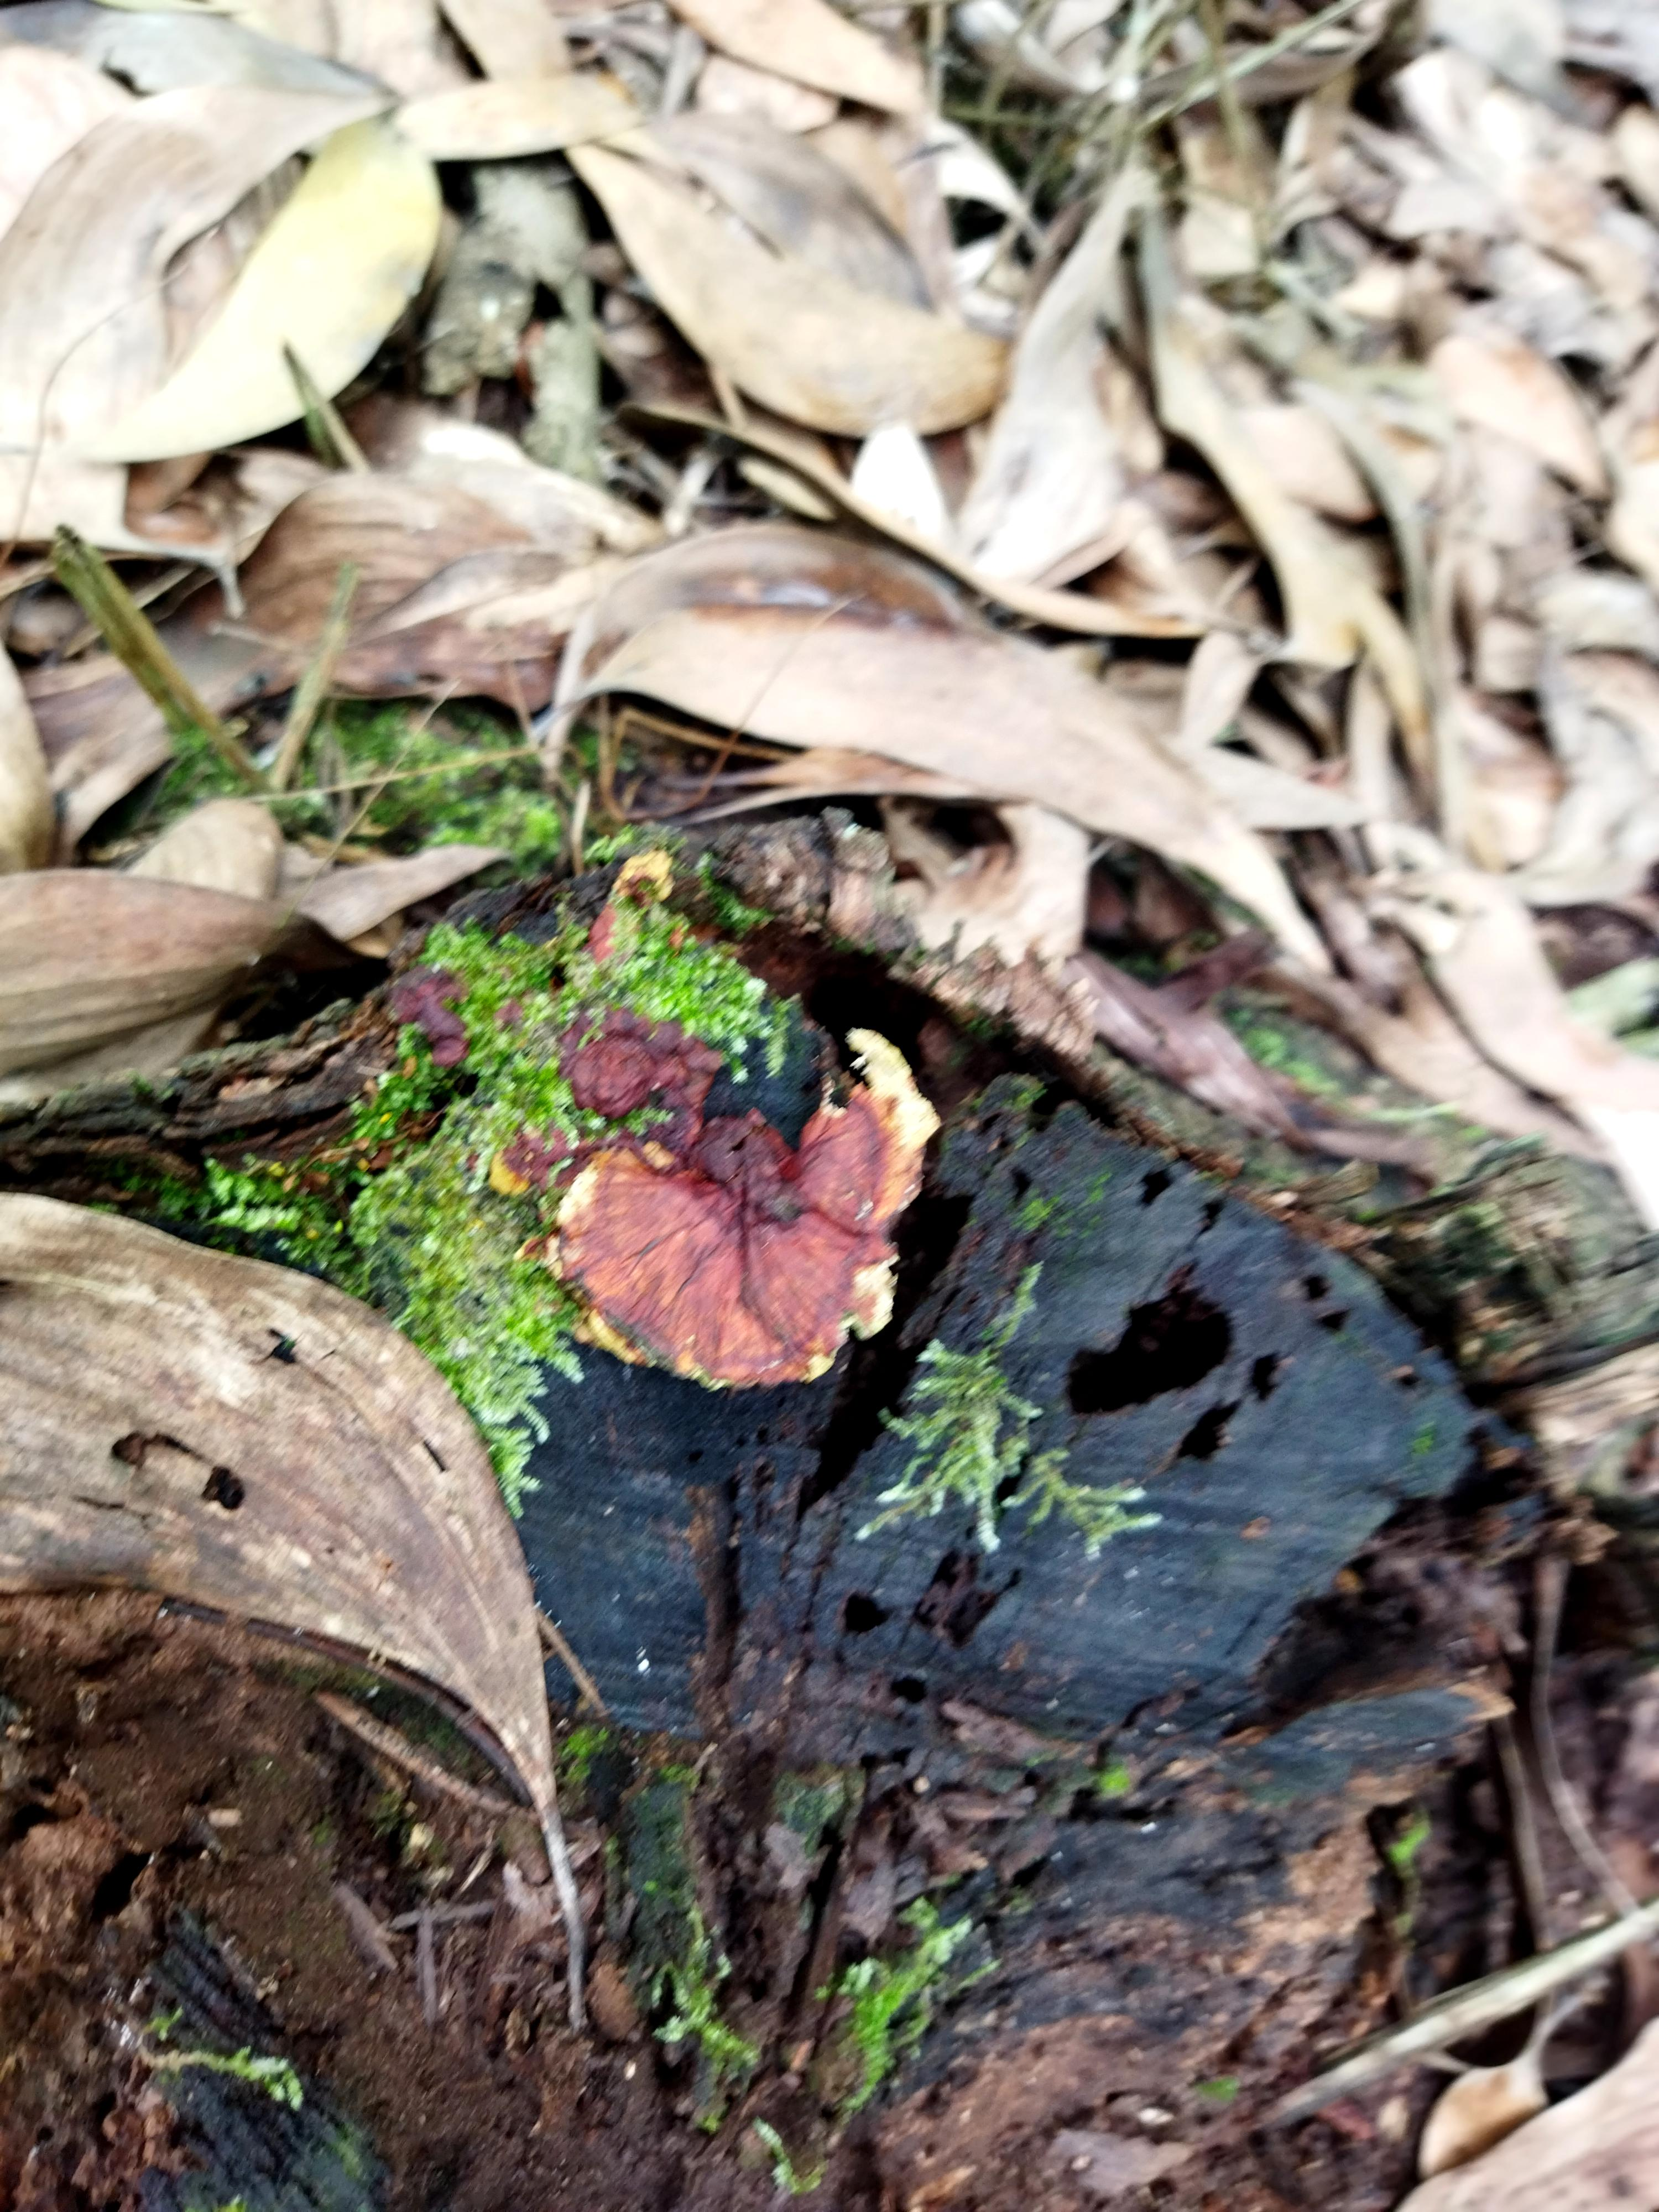Ganoderma - Fruit Body: (532, 1118, 948, 1381)
